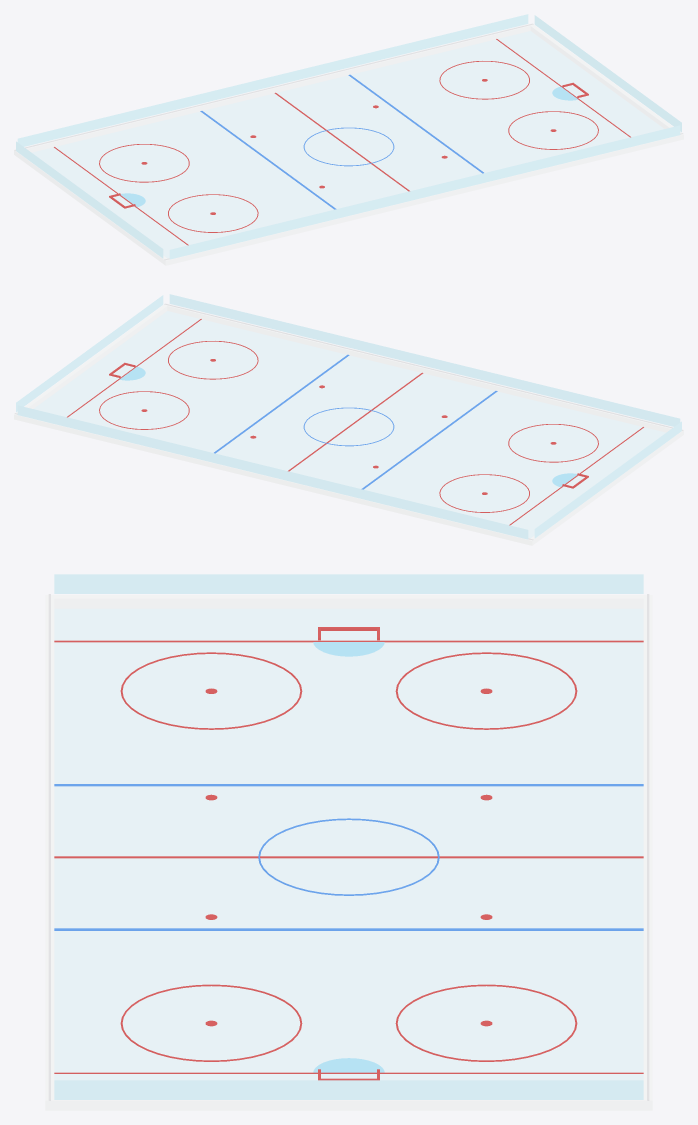
File: rink-lowpoly.glb
3 renders of one model, top to bottom at view 1: azimuth 30°, elevation 25°; view 2: azimuth 150°, elevation 25°; view 3: azimuth 270°, elevation 25°, orthographic. The views are drawn at different scales.
Parts seen in each view (by area): view 1: rink_surface, glass, boards; view 2: rink_surface, glass, boards; view 3: rink_surface, boards, glass, blue_line_left, blue_line_right, center_line, goal_line_left, goal_line_right, faceoff_circle_left_bottom, faceoff_circle_left_top, center_circle, faceoff_circle_right_bottom (+3 smaller).
Part boxes in pixels (x1=…): rink_surface: x1=32, y1=31, x2=663, y2=258; glass: x1=16, y1=14, x2=681, y2=259; boards: x1=14, y1=23, x2=683, y2=265; rink_surface: x1=34, y1=311, x2=665, y2=538; glass: x1=16, y1=294, x2=681, y2=539; boards: x1=14, y1=303, x2=683, y2=545; rink_surface: x1=54, y1=608, x2=643, y2=1080; boards: x1=45, y1=594, x2=652, y2=1110; glass: x1=54, y1=574, x2=643, y2=1099; blue_line_left: x1=54, y1=784, x2=643, y2=786; blue_line_right: x1=54, y1=928, x2=643, y2=930; center_line: x1=54, y1=856, x2=643, y2=858; goal_line_left: x1=54, y1=640, x2=643, y2=642; goal_line_right: x1=54, y1=1072, x2=643, y2=1073; faceoff_circle_left_bottom: x1=120, y1=652, x2=302, y2=729; faceoff_circle_left_top: x1=395, y1=652, x2=577, y2=729; center_circle: x1=258, y1=818, x2=439, y2=895; faceoff_circle_right_bottom: x1=120, y1=984, x2=302, y2=1061.
Bounding box in the file's own units: 60.93 × 1.73 × 30.93.
